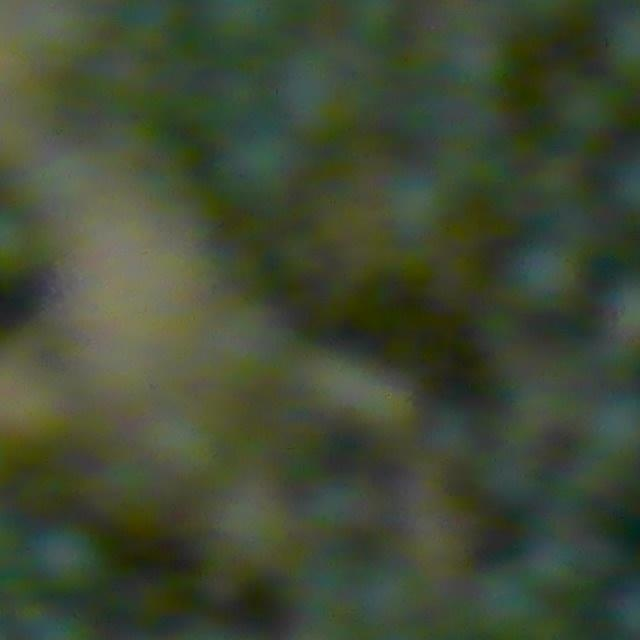SeaGrape: (557, 65, 635, 157), (218, 124, 303, 207), (29, 523, 107, 596), (378, 164, 452, 240), (516, 244, 584, 309), (587, 400, 640, 470), (464, 584, 530, 640), (538, 166, 600, 225), (484, 449, 543, 506), (535, 534, 586, 593)
